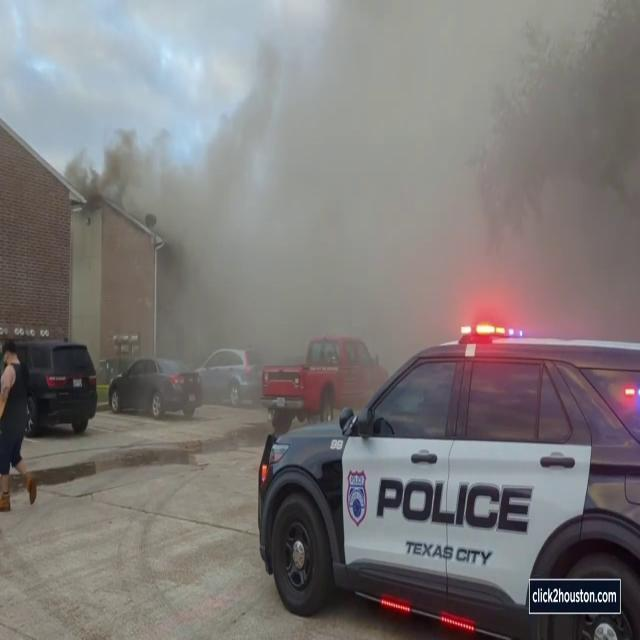Smoke: (152, 1, 640, 358)
